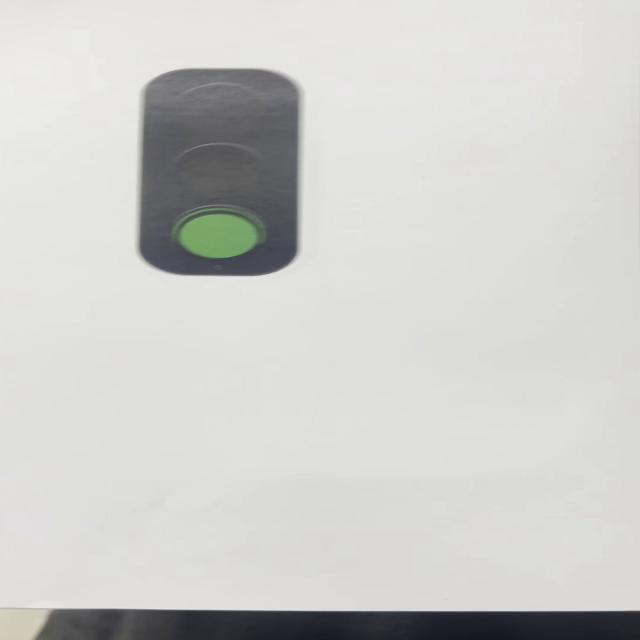green: (127, 65, 299, 276)
